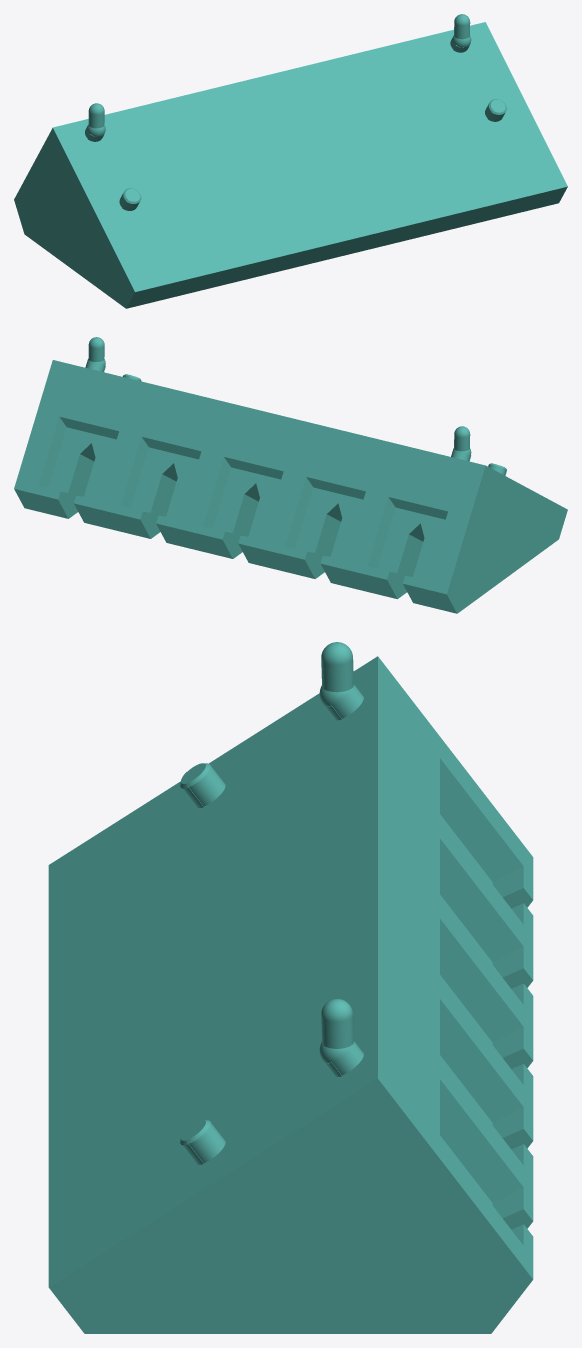
File: part-sd02__v3__flat-b-print.glb
The picture shows the model from 3 angles, top to bottom: view 1: azimuth 30°, elevation 25°; view 2: azimuth 150°, elevation 25°; view 3: azimuth 270°, elevation 25°; orthographic projection. The views are drawn at different scales.
Visible parts, largest first — view 1: Actual holder mesh; view 2: Actual holder mesh; view 3: Actual holder mesh.
Boxes of the visible parts, x1=… form: Actual holder mesh: x1=14, y1=14, x2=567, y2=308; Actual holder mesh: x1=14, y1=337, x2=567, y2=613; Actual holder mesh: x1=48, y1=642, x2=533, y2=1333.
Size of the model in its own units: 0.1504 by 0.0499 by 0.0729.
